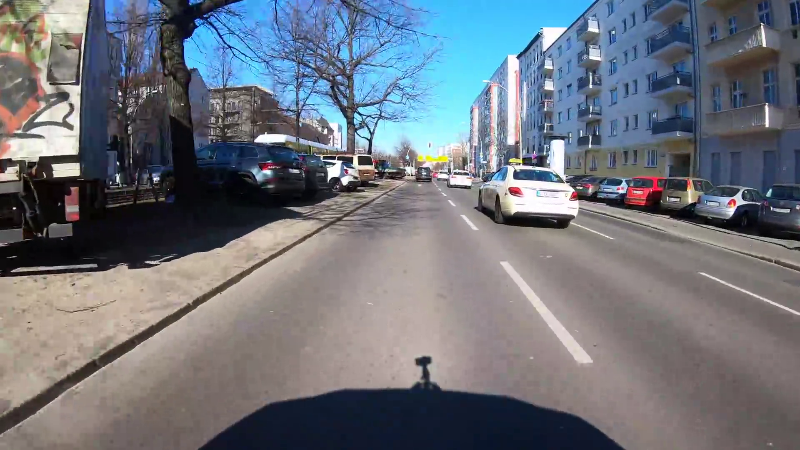Plate: (535, 188, 559, 198)
